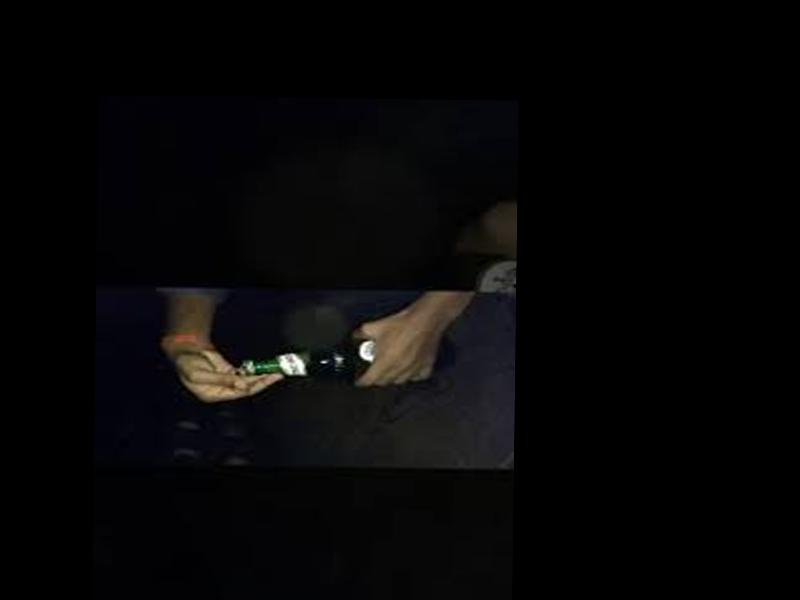Beer: (242, 328, 453, 383)
